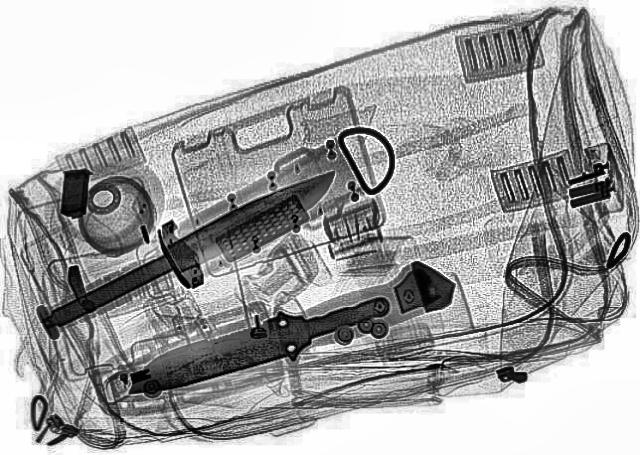Knife: (6, 158, 374, 348), (106, 276, 408, 414)
